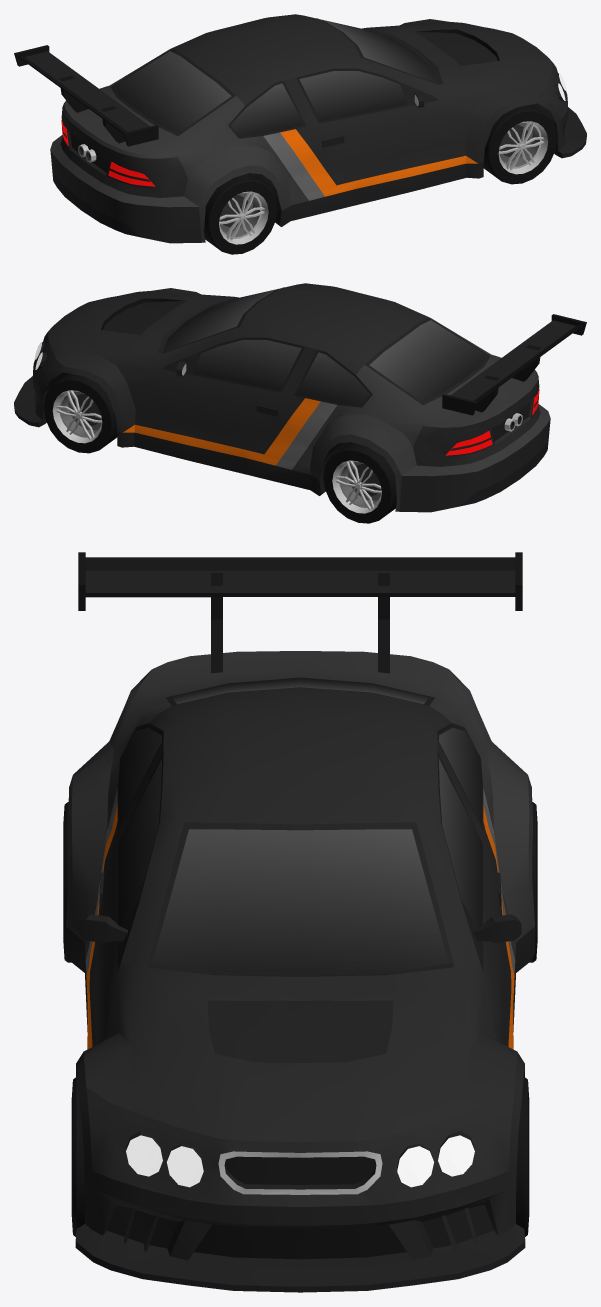
File: RaceCar_056.glb
3 renders of one model, top to bottom at view 1: azimuth 30°, elevation 25°; view 2: azimuth 150°, elevation 25°; view 3: azimuth 270°, elevation 25°, orthographic. The views are drawn at different scales.
Visible parts, largest first — view 1: RaceCar_056, wheel_3_RaceCar_056_Wheel_2R, wheel_1_RaceCar_056_Wheel_1R; view 2: RaceCar_056, wheel_2_RaceCar_056_Wheel_2L, wheel_0_RaceCar_056_Wheel_1L; view 3: RaceCar_056, wheel_0_RaceCar_056_Wheel_1L, wheel_1_RaceCar_056_Wheel_1R.
Boxes of the visible parts, x1,y1,x2,y2 form: RaceCar_056: [14, 14, 586, 243]; wheel_3_RaceCar_056_Wheel_2R: [204, 173, 277, 254]; wheel_1_RaceCar_056_Wheel_1R: [483, 104, 557, 184]; RaceCar_056: [14, 283, 586, 512]; wheel_2_RaceCar_056_Wheel_2L: [323, 442, 396, 523]; wheel_0_RaceCar_056_Wheel_1L: [43, 373, 117, 453]; RaceCar_056: [65, 552, 535, 1292]; wheel_0_RaceCar_056_Wheel_1L: [516, 1077, 529, 1236]; wheel_1_RaceCar_056_Wheel_1R: [71, 1077, 84, 1236].
Size of the model in its own units: 4.96 by 1.42 by 2.07.
3 materials, 3 textured.
